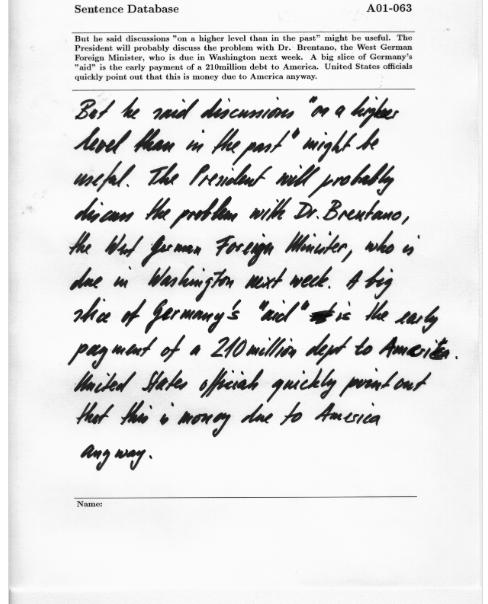text: (62, 333, 461, 372), (70, 296, 443, 336), (68, 367, 436, 405), (66, 229, 423, 268), (67, 263, 398, 303), (73, 398, 384, 440), (70, 194, 412, 231), (71, 126, 384, 165), (71, 162, 397, 197), (71, 94, 403, 128), (73, 61, 414, 73), (75, 41, 415, 53), (73, 33, 415, 44), (73, 52, 414, 63), (73, 72, 319, 83), (76, 441, 155, 474), (72, 3, 181, 14), (363, 1, 415, 15), (73, 500, 105, 510)
